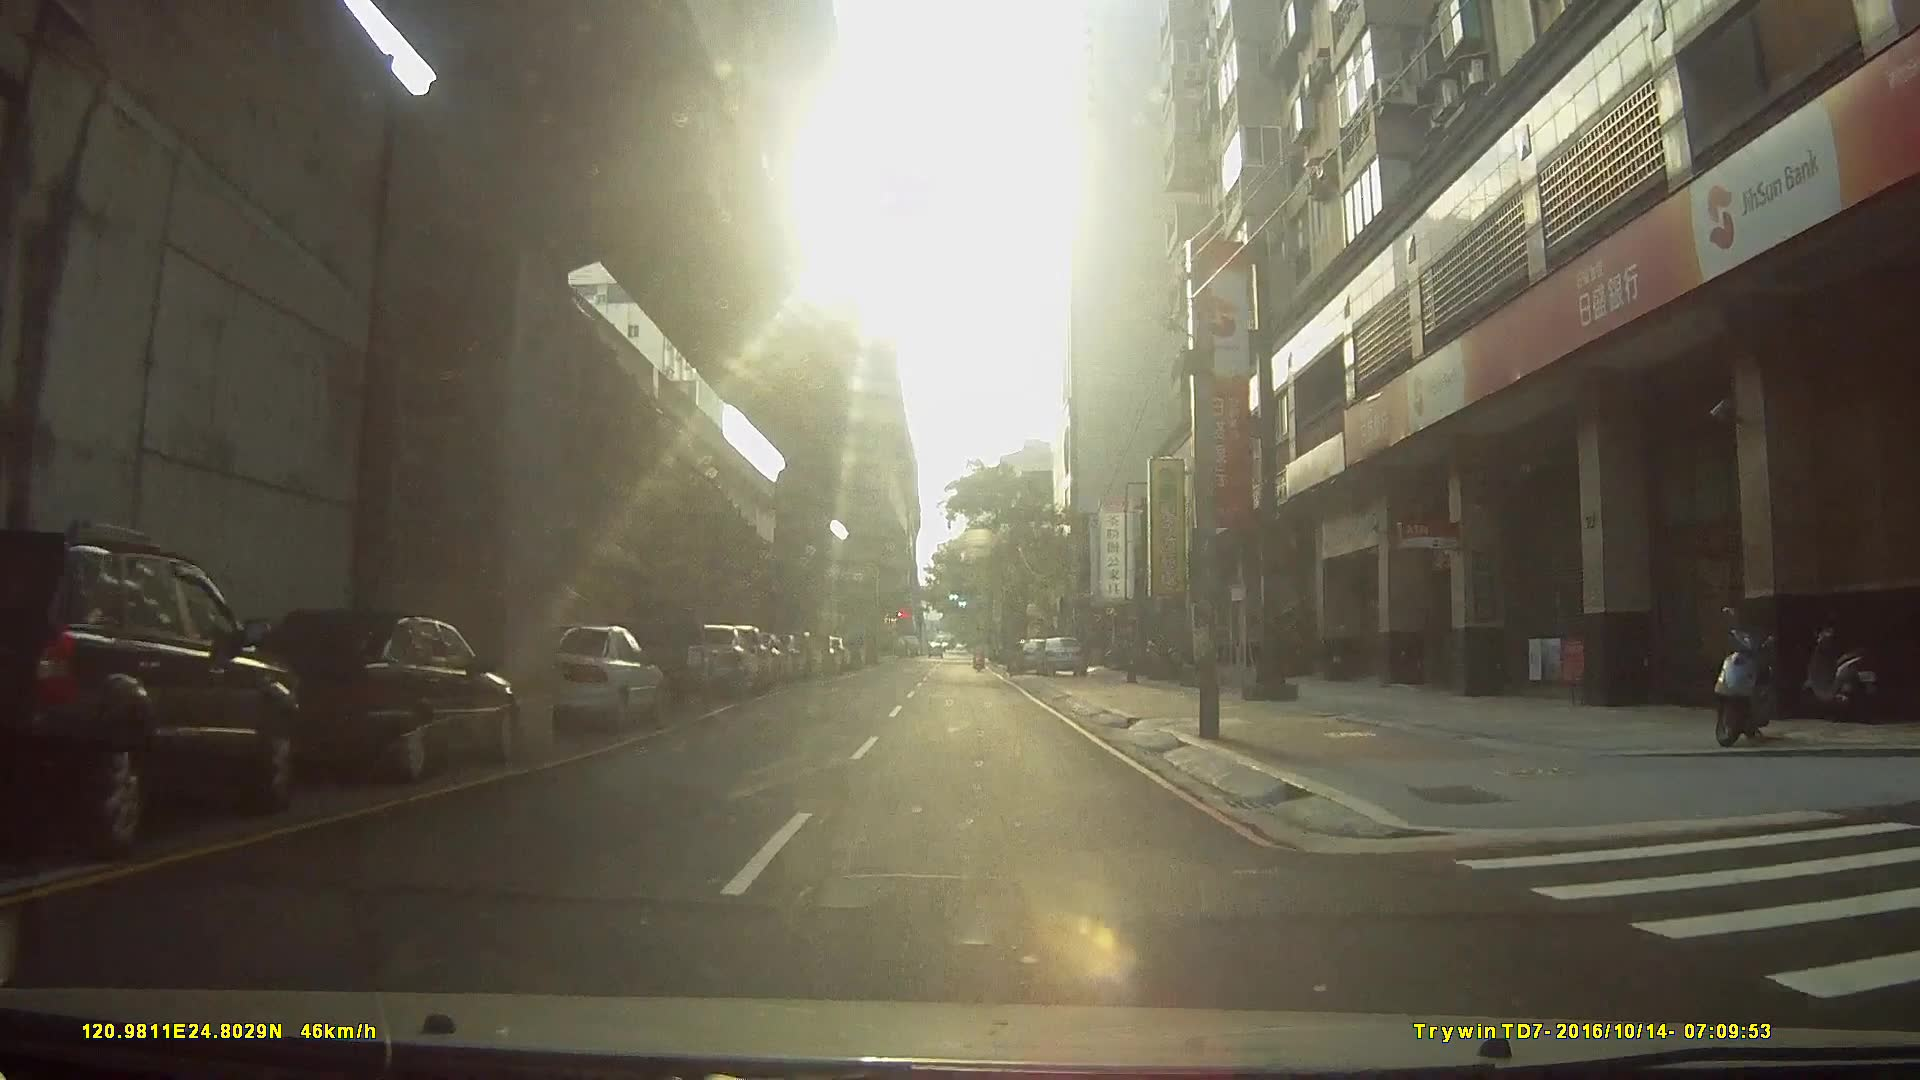vehicle: (0, 522, 305, 856), (216, 605, 524, 781), (520, 616, 665, 731), (597, 603, 713, 703), (659, 620, 794, 670), (1033, 634, 1088, 678)
